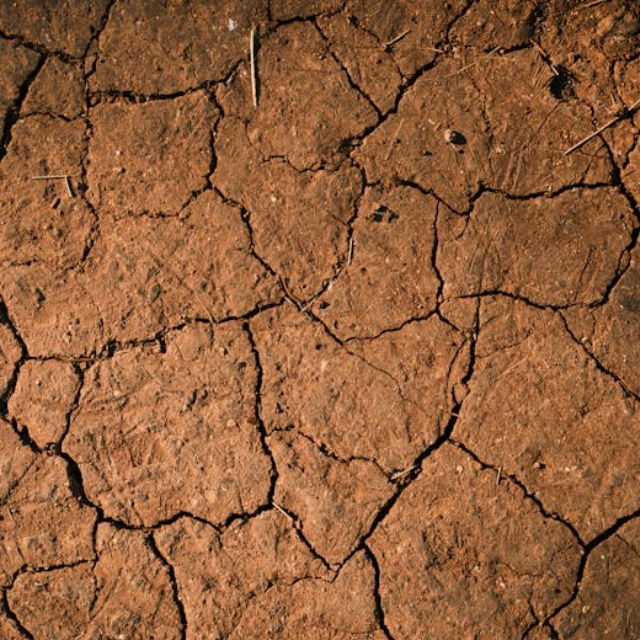细微裂纹: (302, 128, 640, 238), (355, 391, 472, 640), (84, 259, 384, 345), (353, 280, 640, 334)
